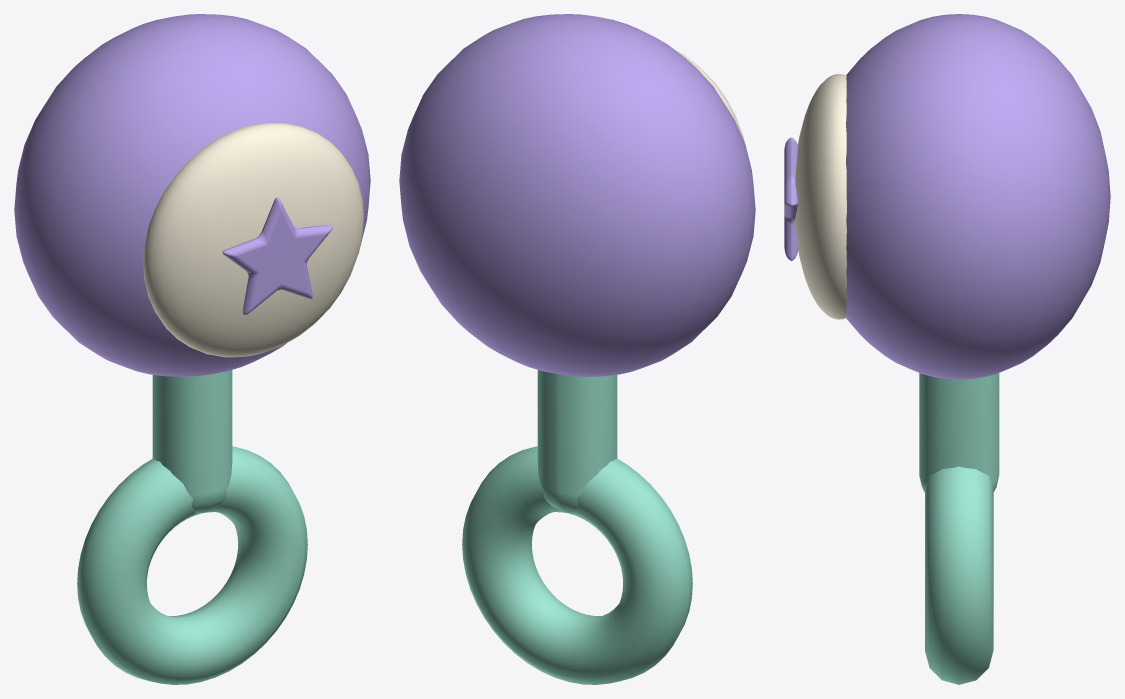
The model's file is rattle.glb.
The picture shows the model from 3 angles, left to right: view 1: azimuth 30°, elevation 25°; view 2: azimuth 150°, elevation 25°; view 3: azimuth 270°, elevation 25°; orthographic projection.
Parts seen in each view (by area): view 1: Lilac rattle head, Cream head front, Mint grip ring, Mint rattle handle, Soft lilac star; view 2: Lilac rattle head, Mint grip ring, Mint rattle handle; view 3: Lilac rattle head, Mint grip ring, Cream head front, Mint rattle handle, Soft lilac star.
Boxes of the visible parts, bbox=[...] form: Lilac rattle head: bbox=[14, 14, 370, 376]; Cream head front: bbox=[143, 122, 363, 357]; Mint grip ring: bbox=[77, 446, 307, 684]; Mint rattle handle: bbox=[152, 370, 232, 513]; Soft lilac star: bbox=[222, 197, 332, 314]; Lilac rattle head: bbox=[399, 14, 755, 376]; Mint grip ring: bbox=[462, 446, 692, 684]; Mint rattle handle: bbox=[537, 370, 617, 513]; Lilac rattle head: bbox=[845, 14, 1110, 379]; Mint grip ring: bbox=[925, 466, 993, 684]; Cream head front: bbox=[795, 74, 846, 319]; Mint rattle handle: bbox=[919, 373, 999, 492]; Soft lilac star: bbox=[784, 137, 798, 260].
Bounding box in the file's own units: 2.39 × 4.63 × 2.13.
